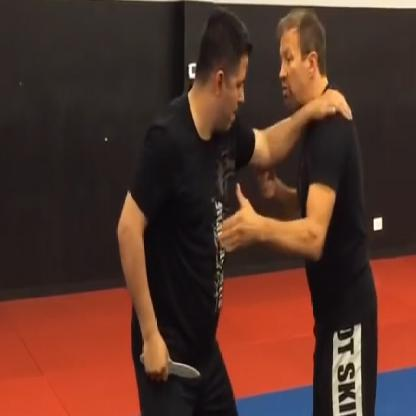knife: (136, 342, 203, 383)
